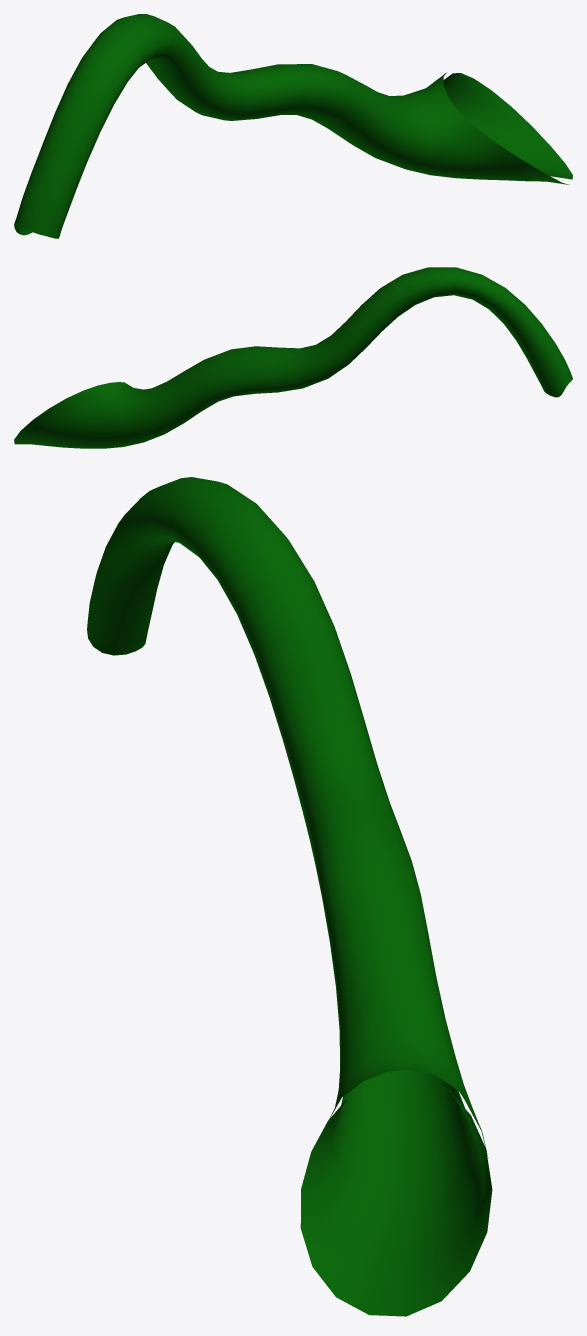
Rendered from VH_M_Ducts_of_Gallbladder.glb.
3 renders of one model, top to bottom at view 1: azimuth 30°, elevation 25°; view 2: azimuth 150°, elevation 25°; view 3: azimuth 270°, elevation 25°, orthographic. The views are drawn at different scales.
Parts seen in each view (by area): view 1: VH_M_cystic_duct; view 2: VH_M_cystic_duct; view 3: VH_M_cystic_duct.
Boxes of the visible parts, <box> form: VH_M_cystic_duct: <box>14,14,572,238</box>; VH_M_cystic_duct: <box>14,267,572,448</box>; VH_M_cystic_duct: <box>87,477,492,1316</box>.
Size of the model in its own units: 0.0186 by 0.00866 by 0.00695.
